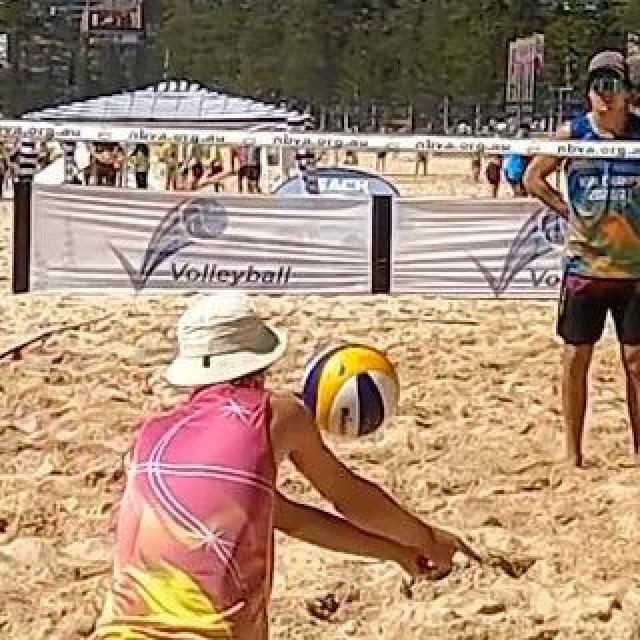volleyball: (299, 343, 401, 443)
